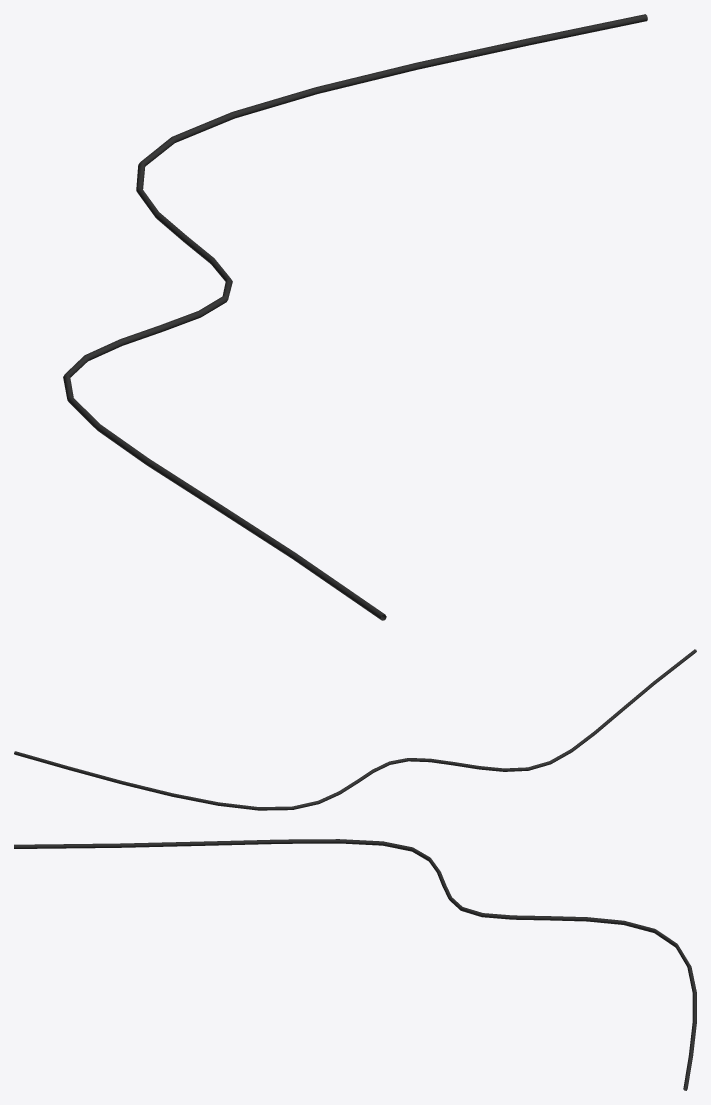
Rendered from SM_Stage_Final_Wire_botton_03.fbx.
3 renders of one model, top to bottom at view 1: azimuth 30°, elevation 25°; view 2: azimuth 150°, elevation 25°; view 3: azimuth 270°, elevation 25°, orthographic. The views are drawn at different scales.
Parts seen in each view (by area): view 1: SM_Stage_Final_Wire_botton_03; view 2: SM_Stage_Final_Wire_botton_03; view 3: SM_Stage_Final_Wire_botton_03.
Part boxes in pixels (x1,y1,x2,y2): SM_Stage_Final_Wire_botton_03: (63, 14, 647, 620); SM_Stage_Final_Wire_botton_03: (14, 649, 696, 810); SM_Stage_Final_Wire_botton_03: (14, 839, 696, 1090).
Size of the model in its own units: 269 by 1.73 by 312.
Materials: 1 (1 with a texture image).
